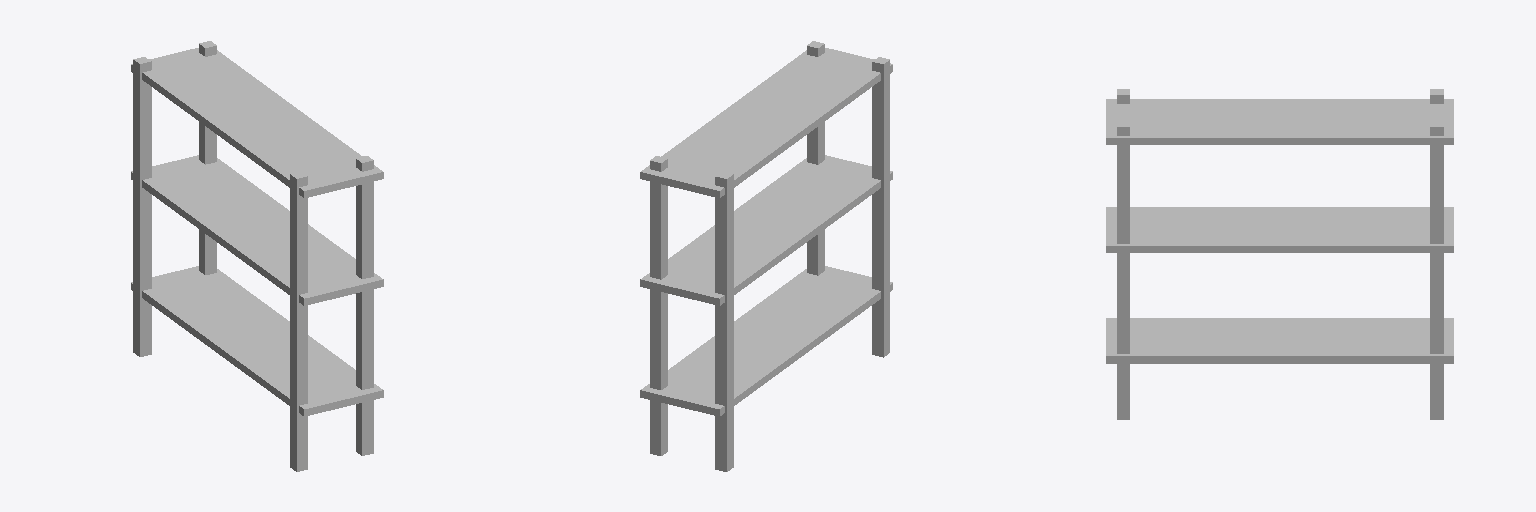
File: Shelf 1.obj
3 renders of one model, left to right at view 1: azimuth 30°, elevation 25°; view 2: azimuth 150°, elevation 25°; view 3: azimuth 270°, elevation 25°, orthographic.
Visible parts, largest first — view 1: Shelf_Cube.049; view 2: Shelf_Cube.049; view 3: Shelf_Cube.049.
Boxes of the visible parts, box(x1,y1,x2,y2) form: Shelf_Cube.049: box(131, 41, 383, 471); Shelf_Cube.049: box(640, 41, 892, 471); Shelf_Cube.049: box(1106, 89, 1453, 419).
Size of the model in its own units: 0.9007 by 3.1 by 3.32.